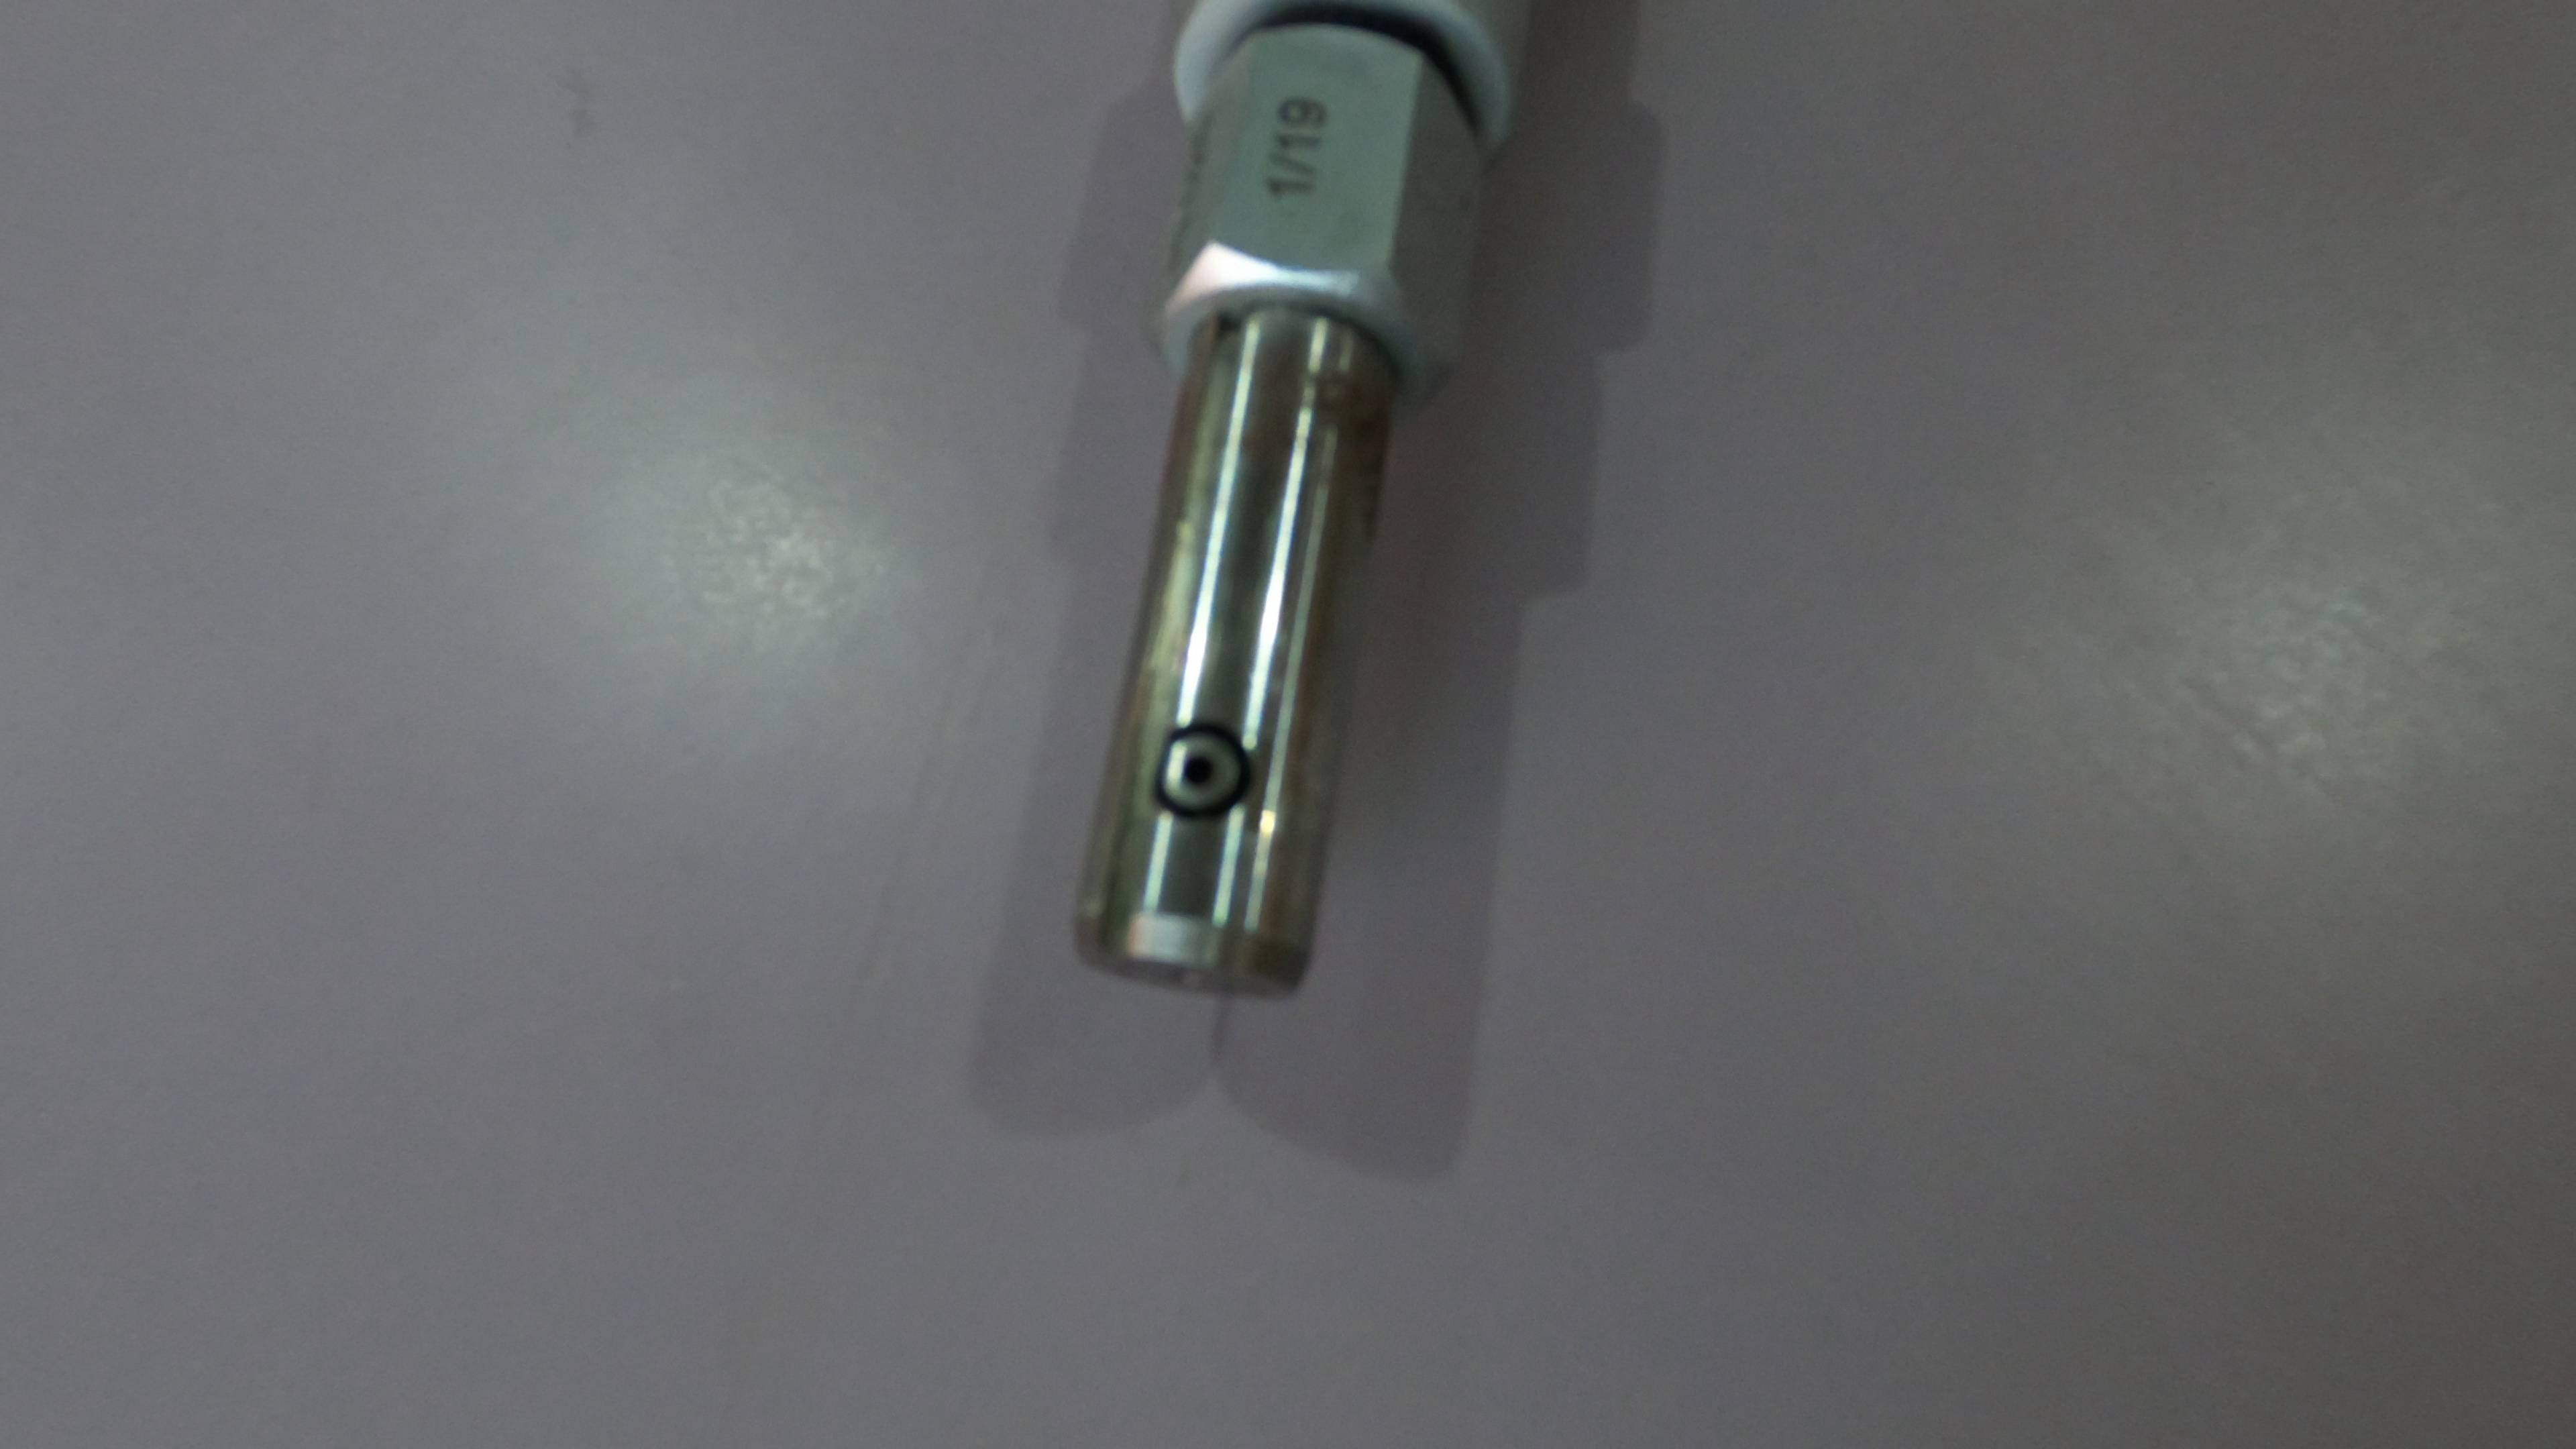air_gauge: (1062, 2, 1568, 1005)
